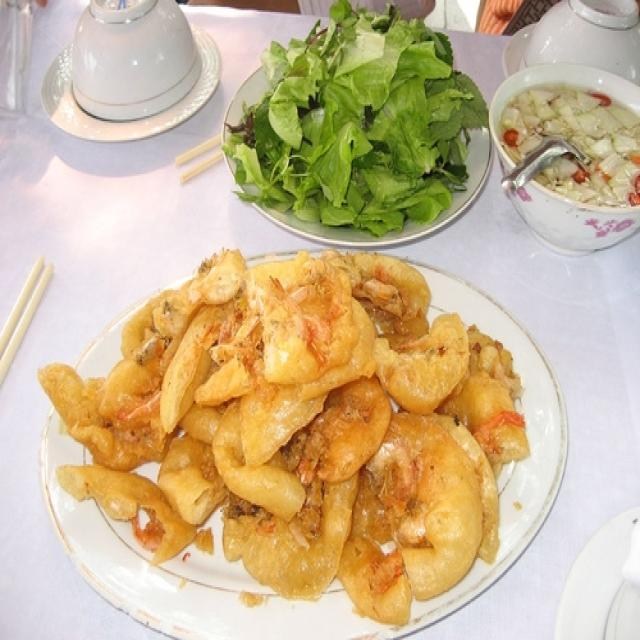炸货点心: (37, 229, 580, 626)
熟制海鲜: (37, 229, 580, 626)
